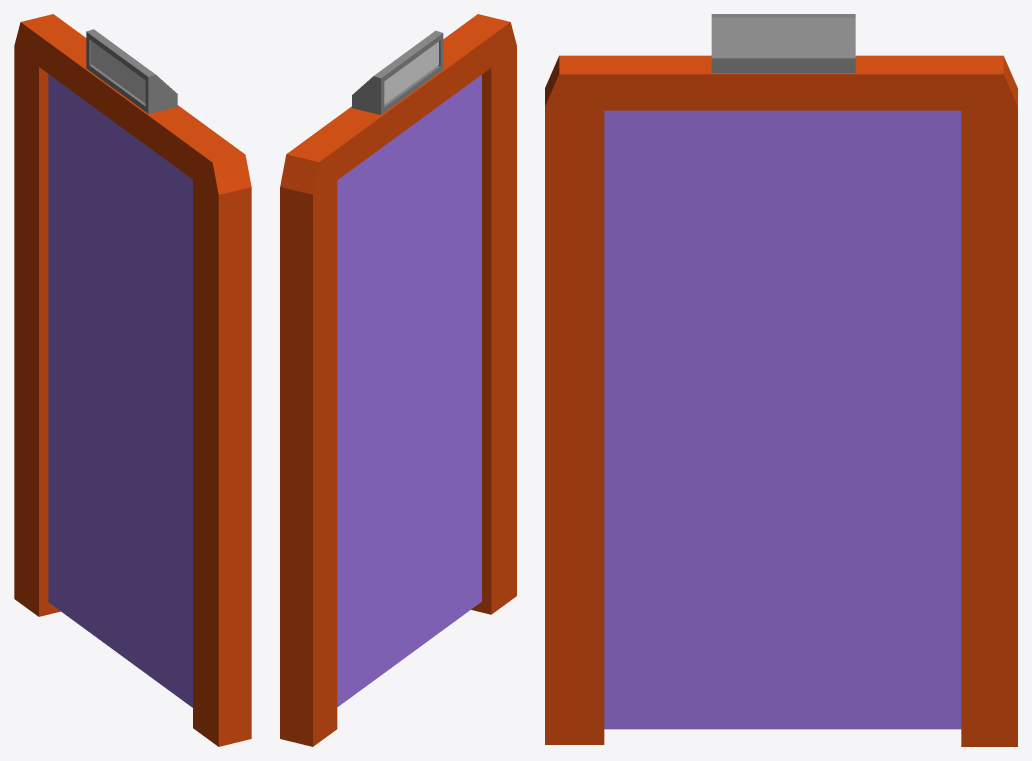
The model's file is DoorDown.fbx.
3 views of the same model, side by side, from view 1: azimuth 30°, elevation 25°; view 2: azimuth 150°, elevation 25°; view 3: azimuth 270°, elevation 25° (orthographic). The views are drawn at different scales.
Parts seen in each view (by area): view 1: Cube.005, Cube.006, Cube.007, Cube.008; view 2: Cube.005, Cube.006, Cube.007, Cube.008; view 3: Cube.005, Cube.006, Cube.007.
Part boxes in pixels (bbox=[...]): Cube.005: bbox=[48, 74, 192, 707]; Cube.006: bbox=[14, 14, 251, 746]; Cube.007: bbox=[86, 29, 177, 113]; Cube.008: bbox=[91, 40, 145, 103]; Cube.005: bbox=[337, 74, 481, 706]; Cube.006: bbox=[280, 14, 516, 746]; Cube.007: bbox=[352, 30, 443, 114]; Cube.008: bbox=[384, 41, 438, 104]; Cube.005: bbox=[604, 110, 961, 729]; Cube.006: bbox=[545, 55, 1017, 746]; Cube.007: bbox=[711, 14, 855, 72].
Bounding box in the file's own units: 19.23 × 346 × 207.
